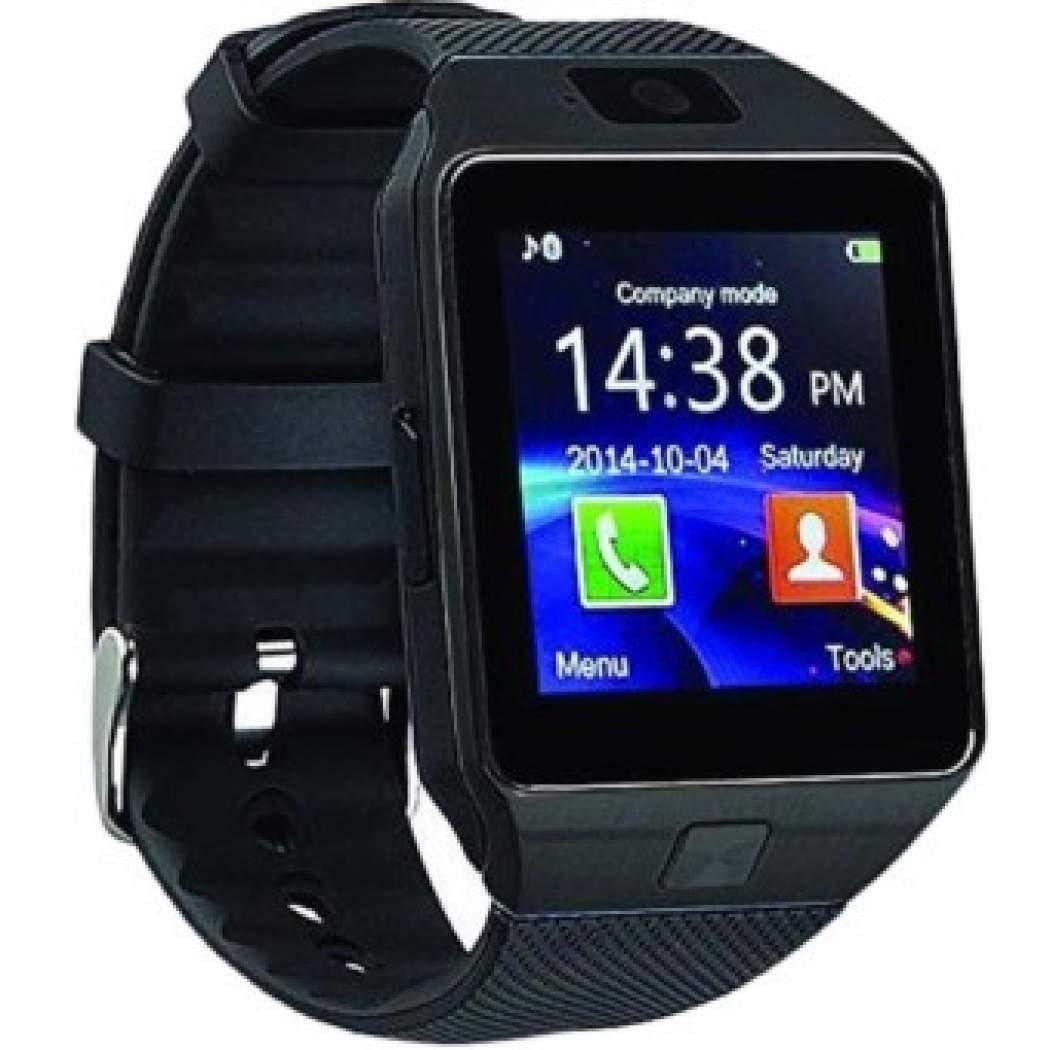Smart Watch: (22, 5, 1050, 1034)
